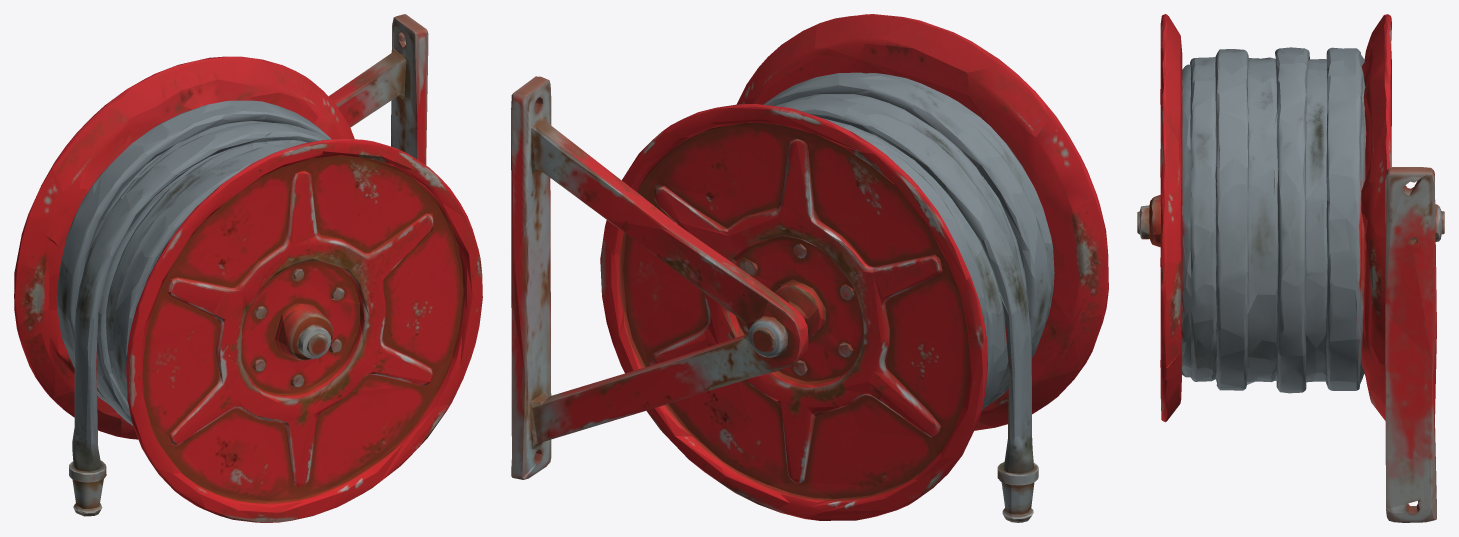
The model's file is rullo_tubo.glb.
3 renders of one model, left to right at view 1: azimuth 30°, elevation 25°; view 2: azimuth 150°, elevation 25°; view 3: azimuth 270°, elevation 25°, orthographic. The views are drawn at different scales.
Parts seen in each view (by area): view 1: Mesh_0; view 2: Mesh_0; view 3: Mesh_0.
Boxes of the visible parts, x1=… form: Mesh_0: x1=14, y1=14, x2=482, y2=522; Mesh_0: x1=511, y1=14, x2=1108, y2=522; Mesh_0: x1=1137, y1=14, x2=1444, y2=522.
Bounding box in the file's own units: 1.9 × 1.66 × 1.23.
Materials: 1 (1 with a texture image).
